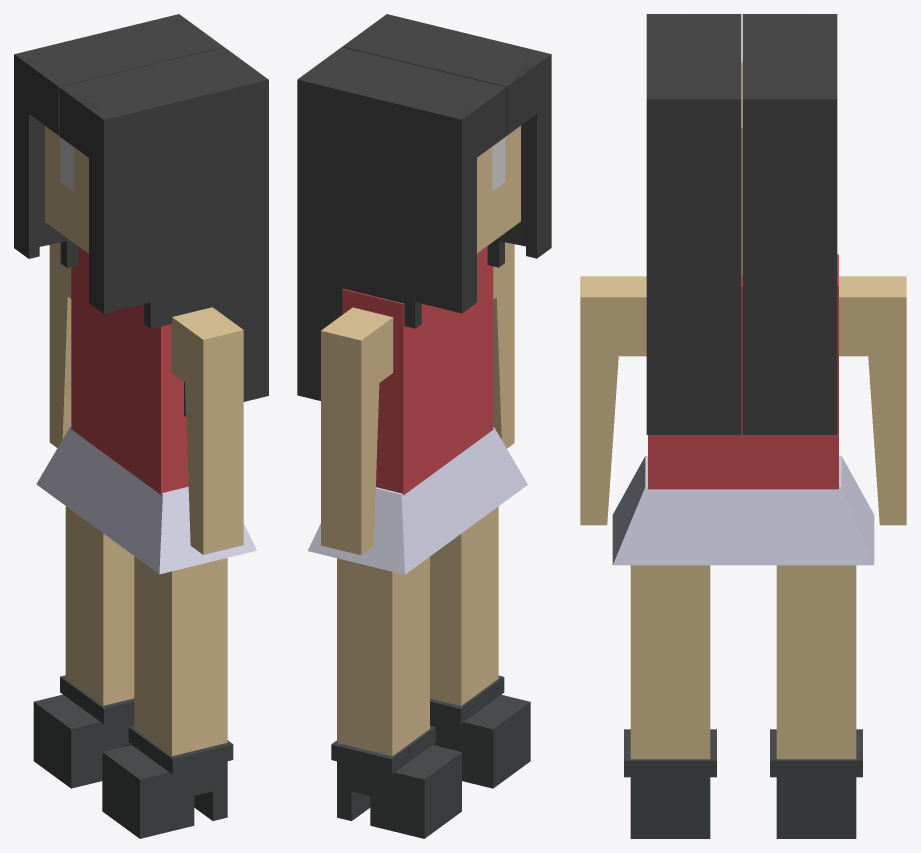
File: character.glb
3 views of the same model, side by side, from view 1: azimuth 30°, elevation 25°; view 2: azimuth 150°, elevation 25°; view 3: azimuth 270°, elevation 25° (orthographic). The views are drawn at different scales.
Visible parts, largest first — view 1: heels; view 2: heels; view 3: heels.
Boxes of the visible parts, x1,y1,x2,y2 form: heels: [14, 14, 268, 838]; heels: [297, 14, 551, 838]; heels: [580, 14, 906, 838].
Bounding box in the file's own units: 1.18 × 4.92 × 1.9.
